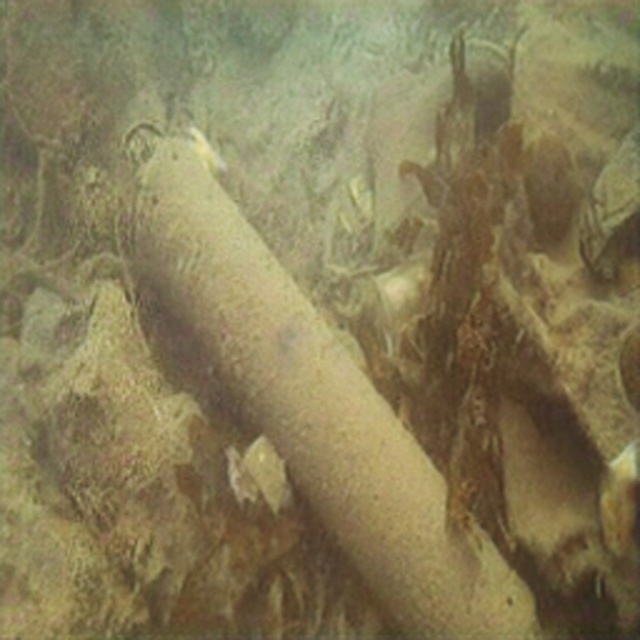mine: (116, 118, 539, 640)
